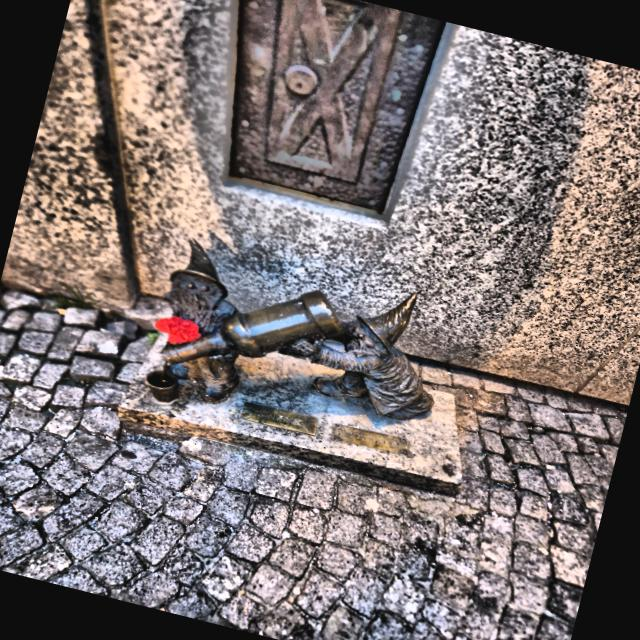Ogorzalek_i_Opilek: (156, 240, 433, 420)
